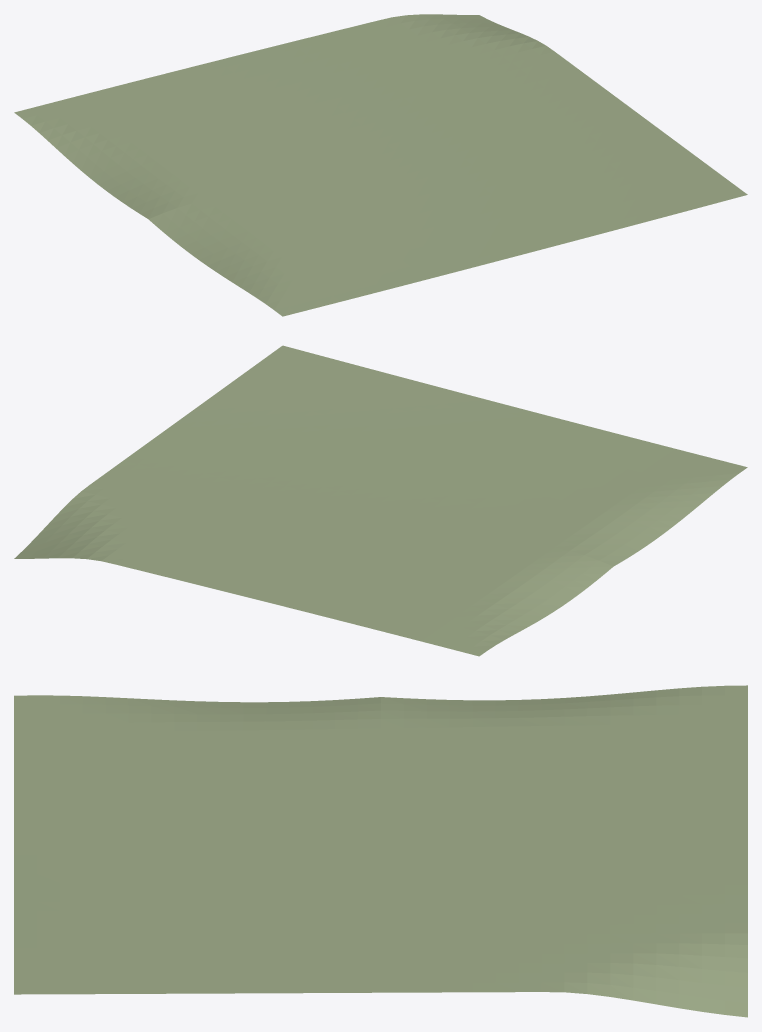
The model's file is gardens-4-7.glb.
3 views of the same model, one above another, from view 1: azimuth 30°, elevation 25°; view 2: azimuth 150°, elevation 25°; view 3: azimuth 270°, elevation 25° (orthographic). The views are drawn at different scales.
Visible parts, largest first — view 1: gardens-4-7; view 2: gardens-4-7; view 3: gardens-4-7.
Part boxes in pixels (box(x1,y1,x2,y2)): gardens-4-7: box(14, 14, 747, 316); gardens-4-7: box(14, 345, 747, 656); gardens-4-7: box(14, 685, 747, 1017).
Size of the model in its own units: 256 by 10.08 by 256.
